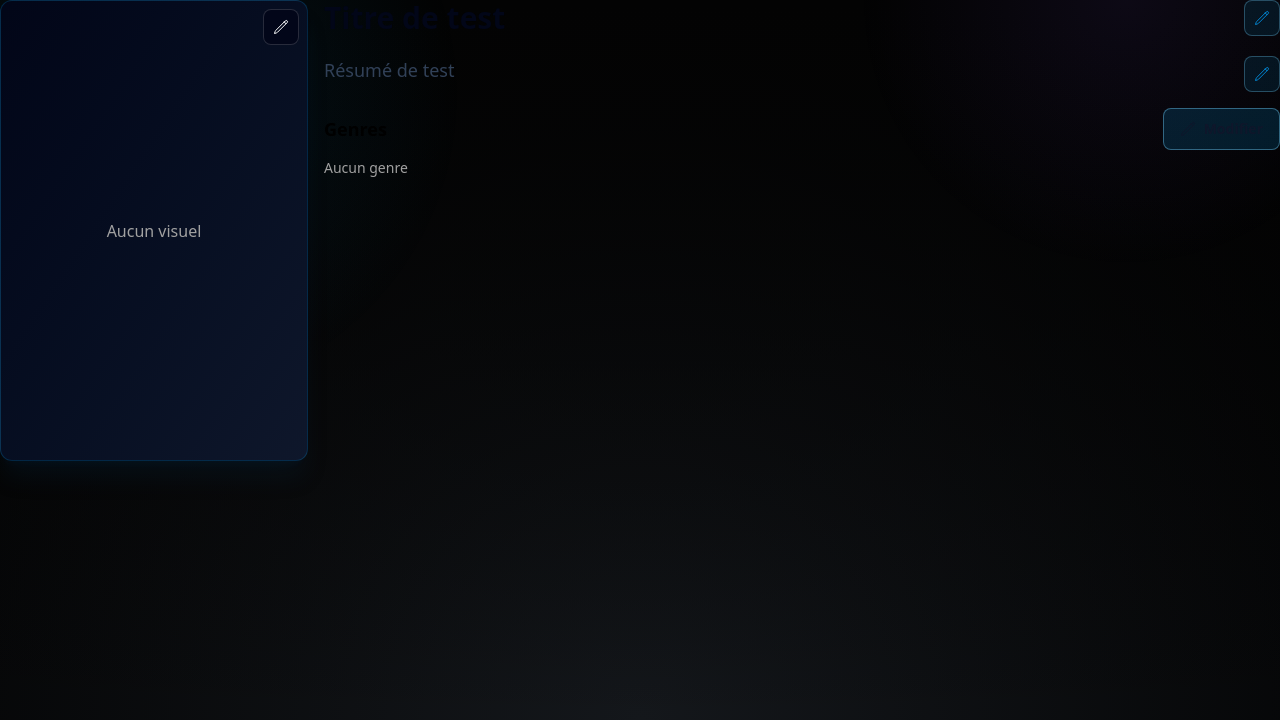
it: champs d'édition des détails de contenu › intègre les détails du série sans carte ni en-tête et conserve l'édition
The width and height of the screenshot is (1280, 720).
Click the button titled "Modifier le titre" at {"x": 1262, "y": 18}, box left=1244, top=0, right=1279, bottom=36
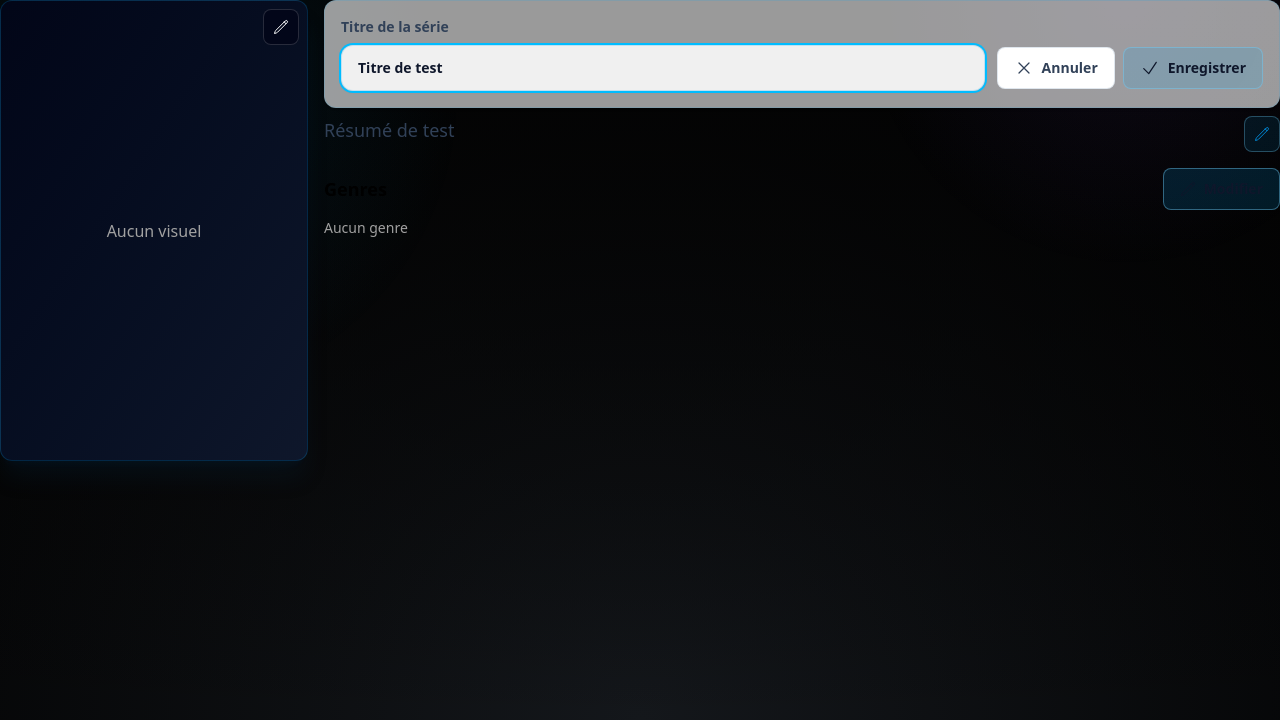
Now the field labelled "Titre de la série" is shown, box left=341, top=45, right=985, bottom=91
